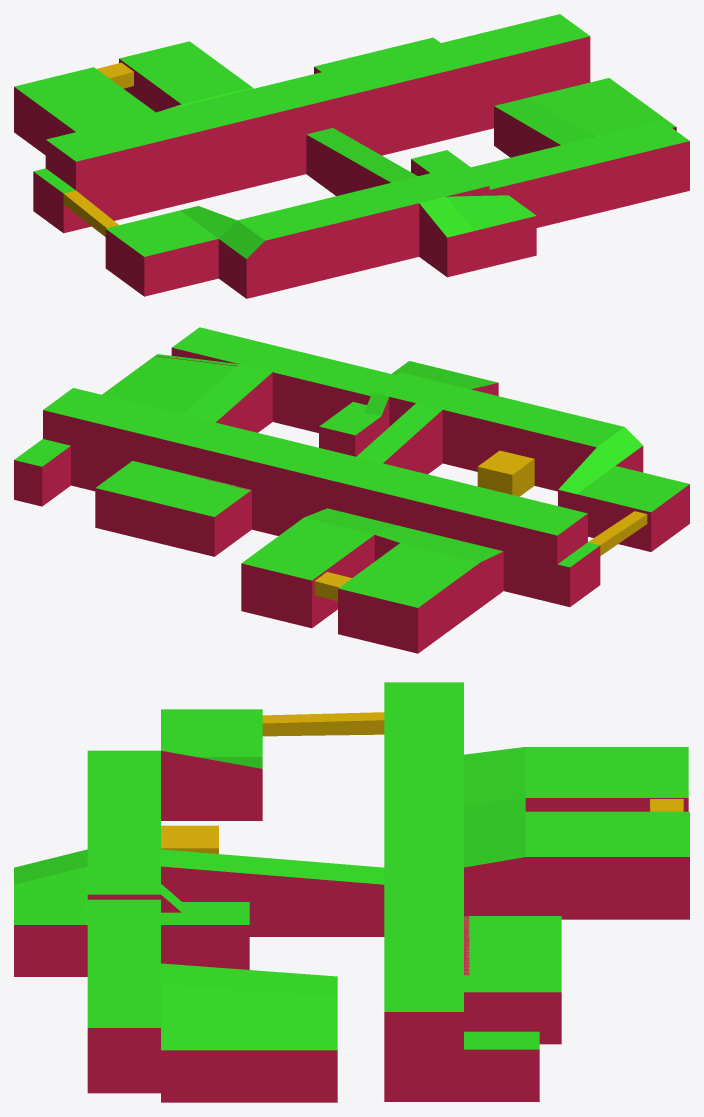
The model's file is School.glb.
3 views of the same model, one above another, from view 1: azimuth 30°, elevation 25°; view 2: azimuth 150°, elevation 25°; view 3: azimuth 270°, elevation 25° (orthographic). The views are drawn at different scales.
Visible parts, largest first — view 1: Cube; view 2: Cube; view 3: Cube.
Part boxes in pixels (x1,y1,x2,y2): Cube: (14,14,689,298); Cube: (14,327,689,653); Cube: (14,682,689,1102).
Bounding box in the file's own units: 72.56 × 8.93 × 60.79.
